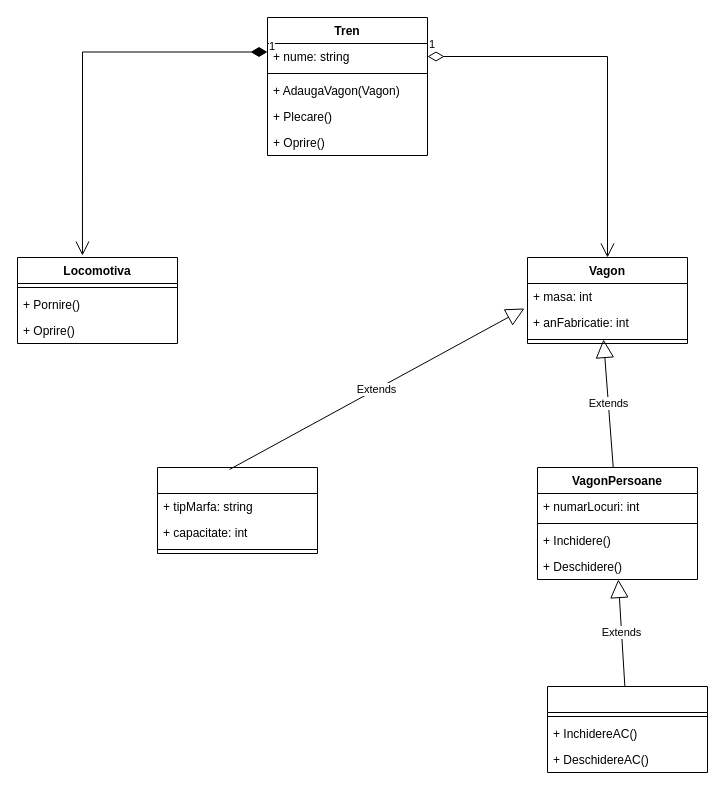
The diagram is 725 pixels wide and 793 high, and some of its shapes have lost their labels. Each missing label, with the box of its shape:
VagonMarfa: (156, 466, 318, 554)
VagonPersoaneClasa1: (546, 686, 708, 772)
